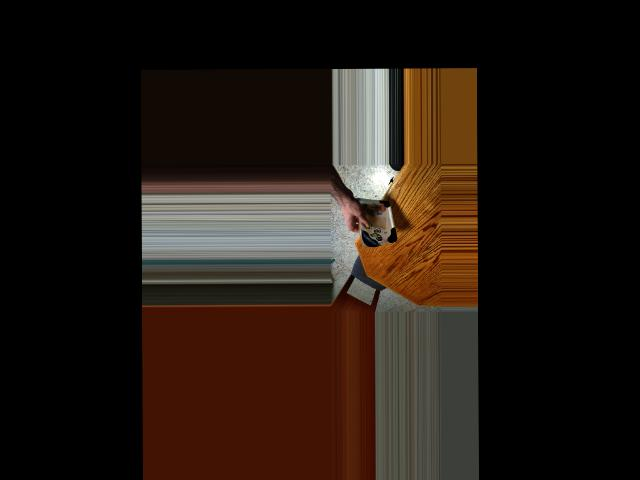cheese: (357, 191, 393, 250)
